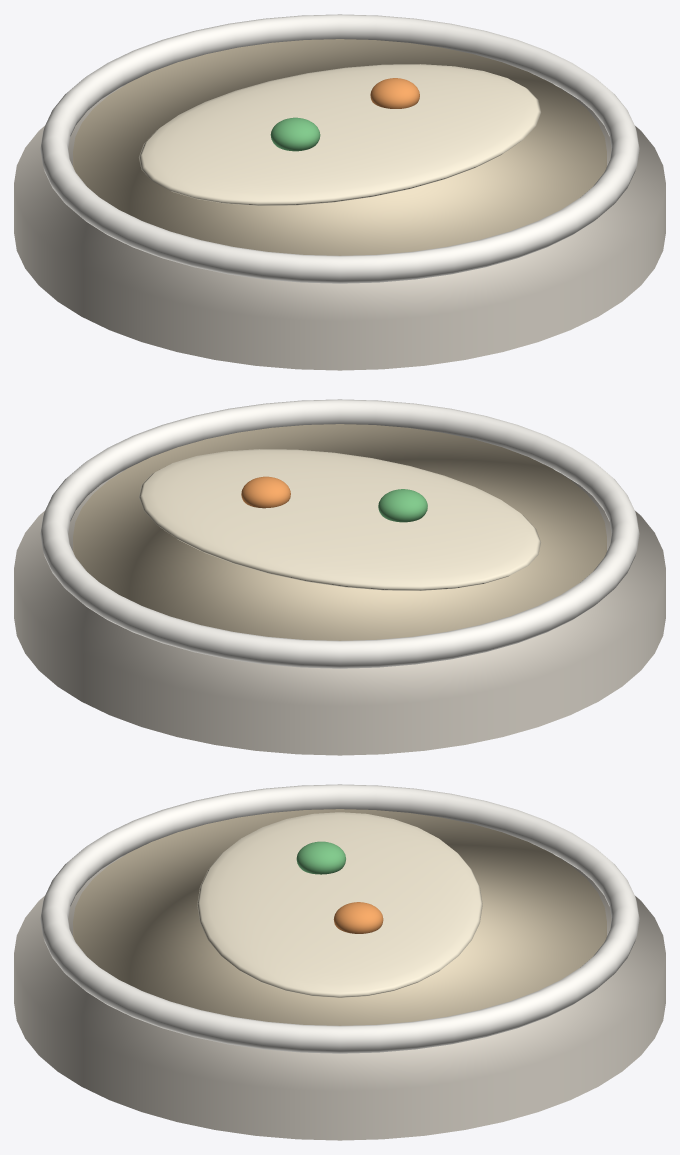
Rendered from stew.glb.
The picture shows the model from 3 angles, top to bottom: view 1: azimuth 30°, elevation 25°; view 2: azimuth 150°, elevation 25°; view 3: azimuth 270°, elevation 25°; orthographic projection.
Size of the model in its own units: 2.1 by 0.4675 by 2.1.
